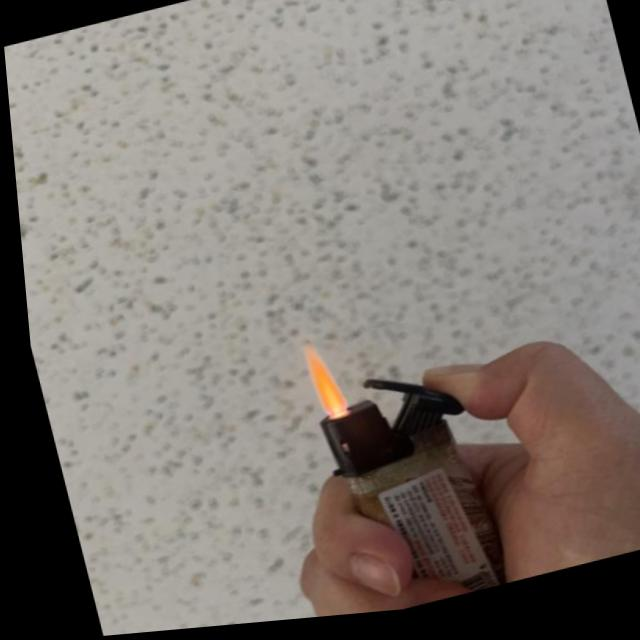Fire: (293, 345, 341, 422)
